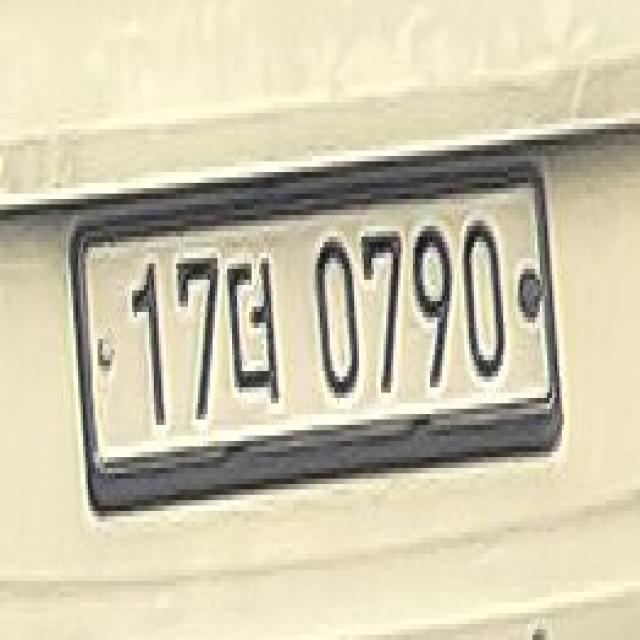0: (457, 210, 510, 398), (313, 226, 362, 419)
1: (129, 247, 171, 441)
7: (173, 242, 225, 441), (361, 221, 408, 414)
9: (408, 210, 457, 408)
deo: (225, 237, 283, 425)
license_plate: (66, 135, 567, 532)
